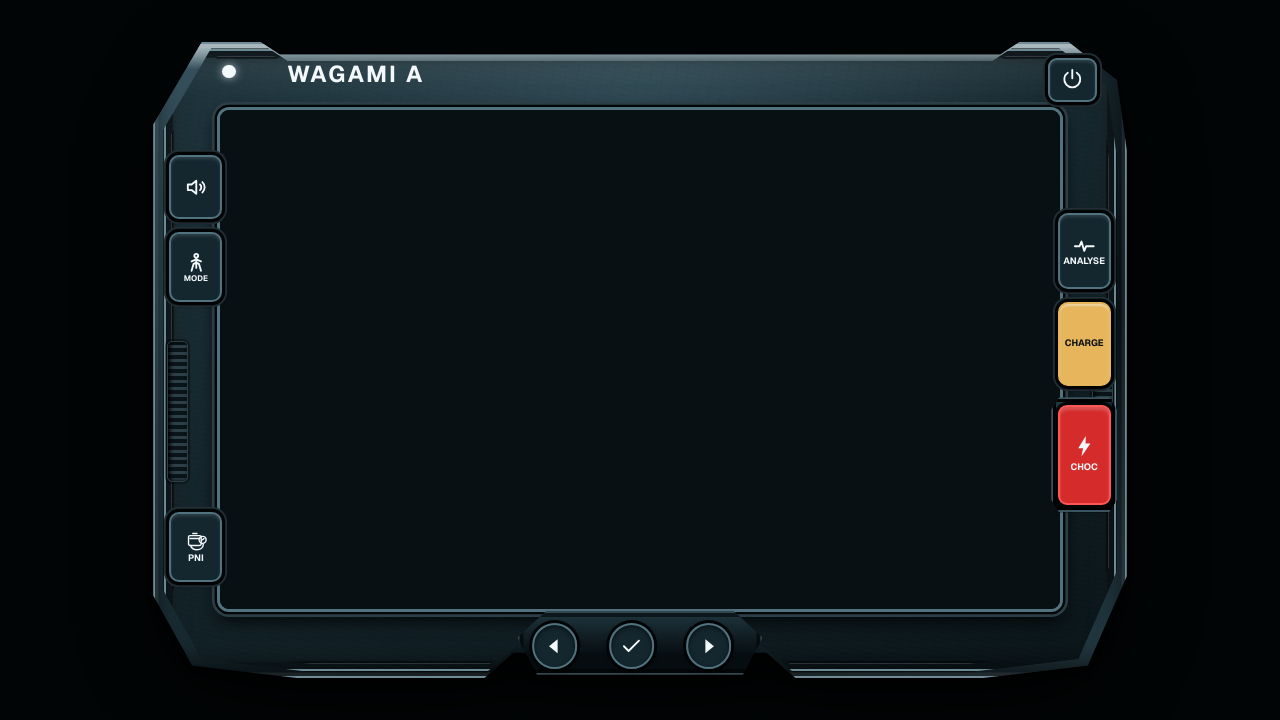
Test: Wagami A live Attempt integration › opens PNI settings without recording a clinical action and projects the view
This screenshot has width=1280, height=720.
Step 1. Click the button named "Alimentation WAGAMI A" → (1072,80), box [1048,58,1097,102]
Wait 3000 ms
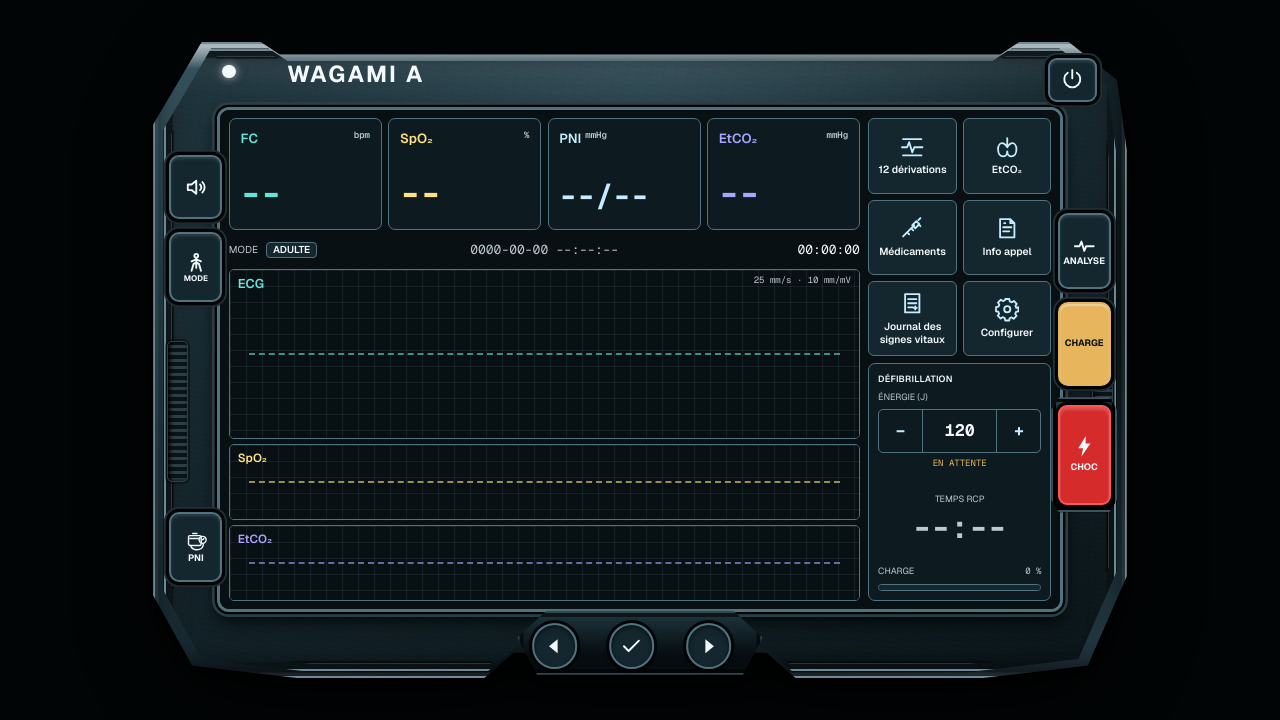
Step 2. Click the button with aria-label "Ouvrir les réglages PNI" → (624,174), box [548,118,700,230]
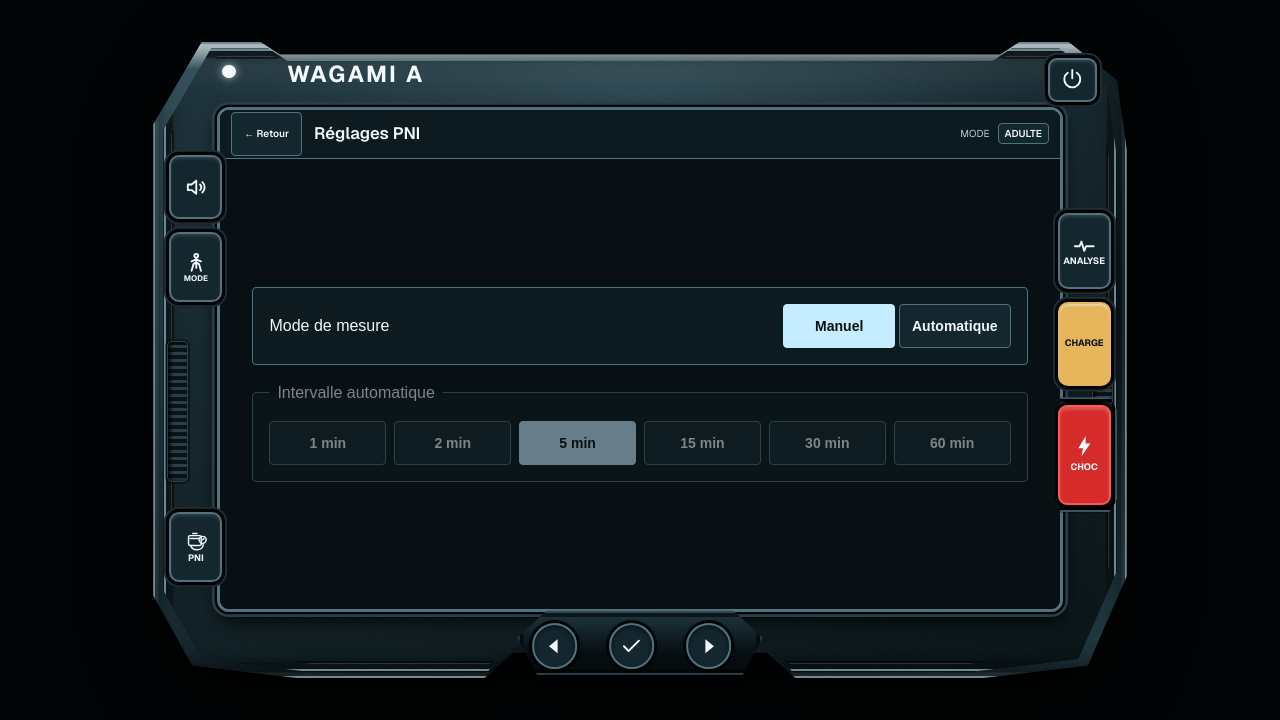
Now the heading "Réglages PNI" is shown, box [314,121,420,146]
